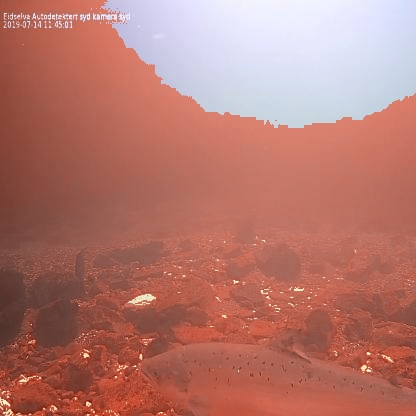salmon: (134, 323, 416, 415)
